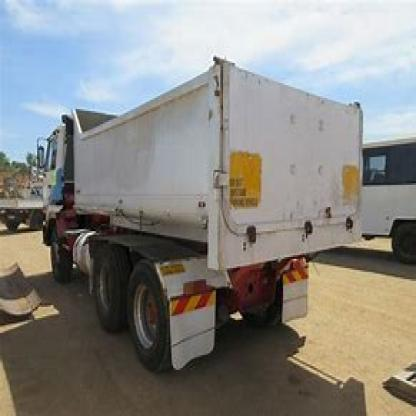dump_truck: (36, 43, 364, 377)
